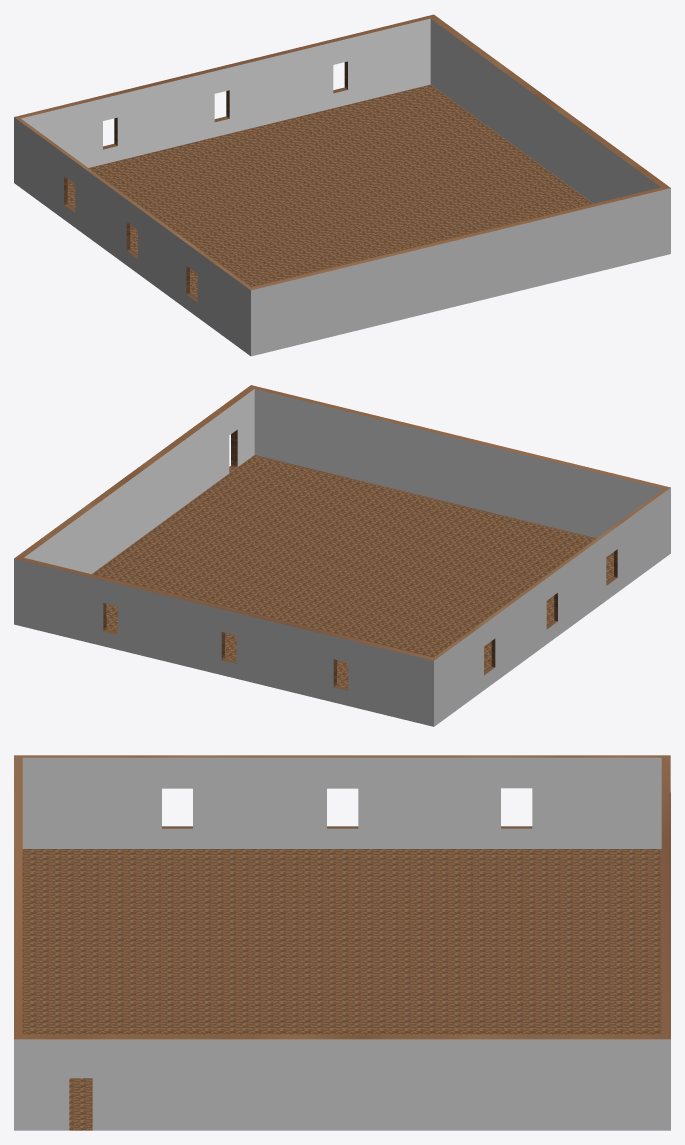
Rendered from Large_Room.fbx.
The picture shows the model from 3 angles, top to bottom: view 1: azimuth 30°, elevation 25°; view 2: azimuth 150°, elevation 25°; view 3: azimuth 270°, elevation 25°; orthographic projection. The views are drawn at different scales.
Visible parts, largest first — view 1: Classroom 1.015; view 2: Classroom 1.015; view 3: Classroom 1.015.
Boxes of the visible parts, left/top/right/bottom form: Classroom 1.015: left=14, top=14, right=670, bottom=356; Classroom 1.015: left=14, top=385, right=670, bottom=726; Classroom 1.015: left=14, top=755, right=670, bottom=1130.
Bounding box in the file's own units: 4529 × 680 × 4427.
